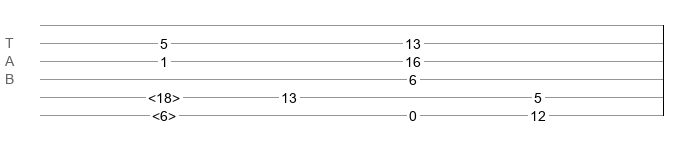0: (409, 108, 417, 118)
1: (160, 54, 168, 64)
12: (530, 108, 546, 118)
13: (281, 90, 297, 100), (405, 36, 421, 46)
16: (405, 54, 421, 64)
5: (160, 36, 168, 46), (534, 90, 542, 100)
6: (409, 72, 417, 82)
harmonic: (148, 90, 180, 100), (152, 108, 176, 118)
